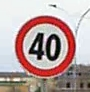limite 40: (14, 16, 75, 78)
